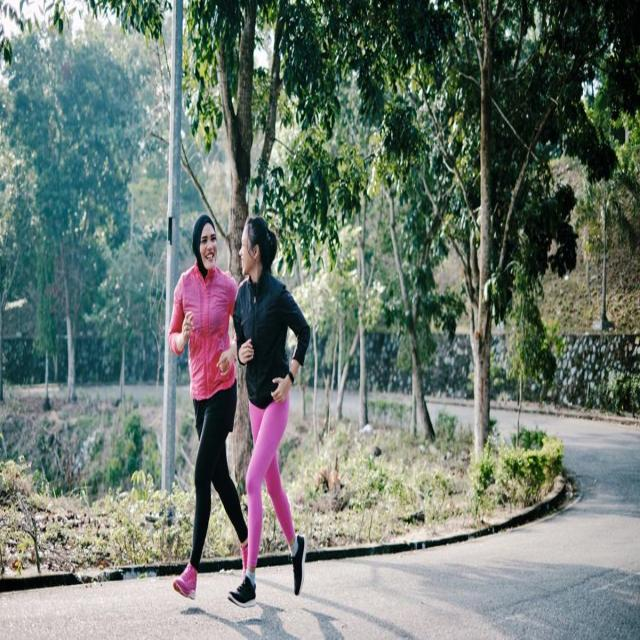Person: (228, 217, 311, 612), (168, 216, 249, 599)
